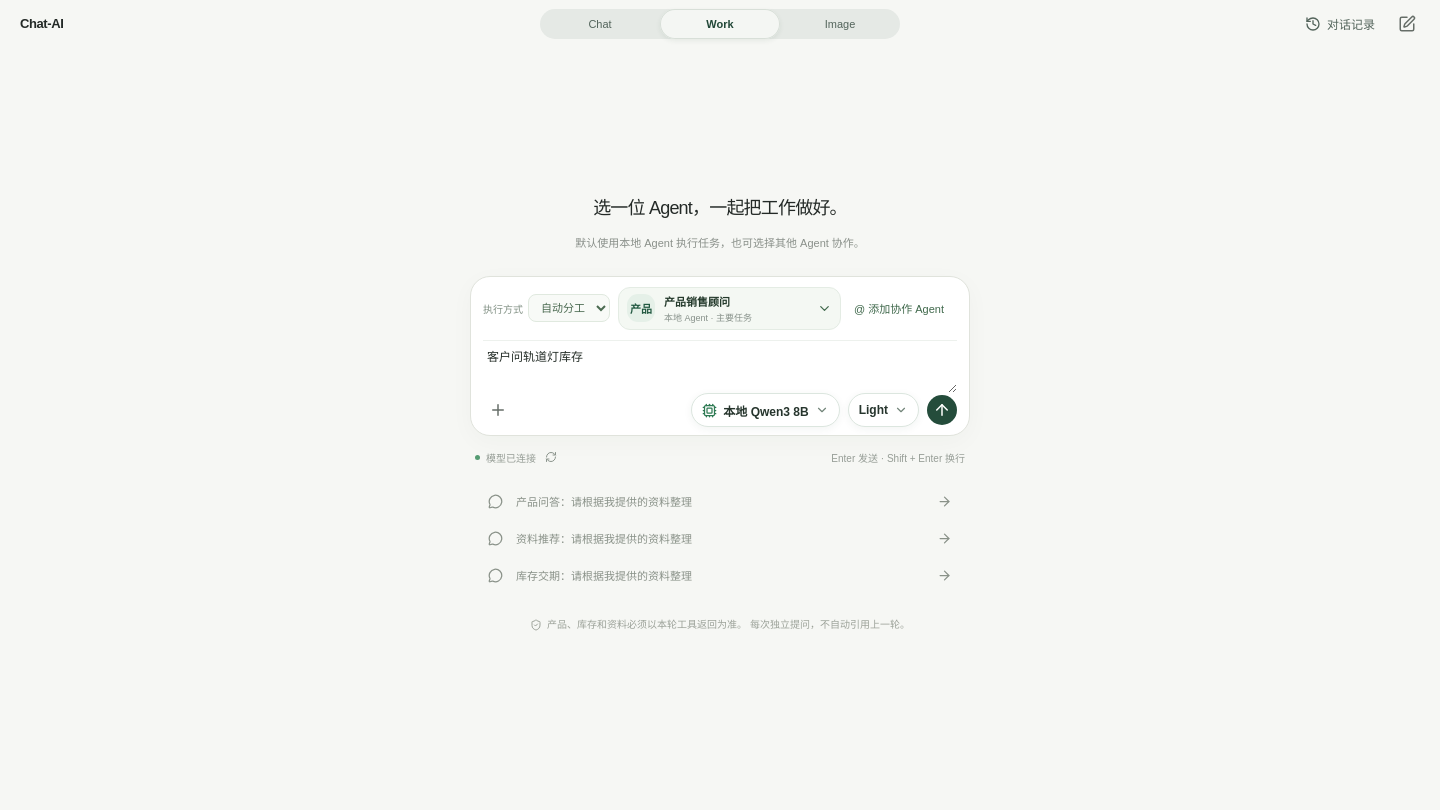
Scenario: Agent workspace › can guide an addition before the current response headers arrive
Click the button named "发送问题": (942, 410) [927,395,957,425]
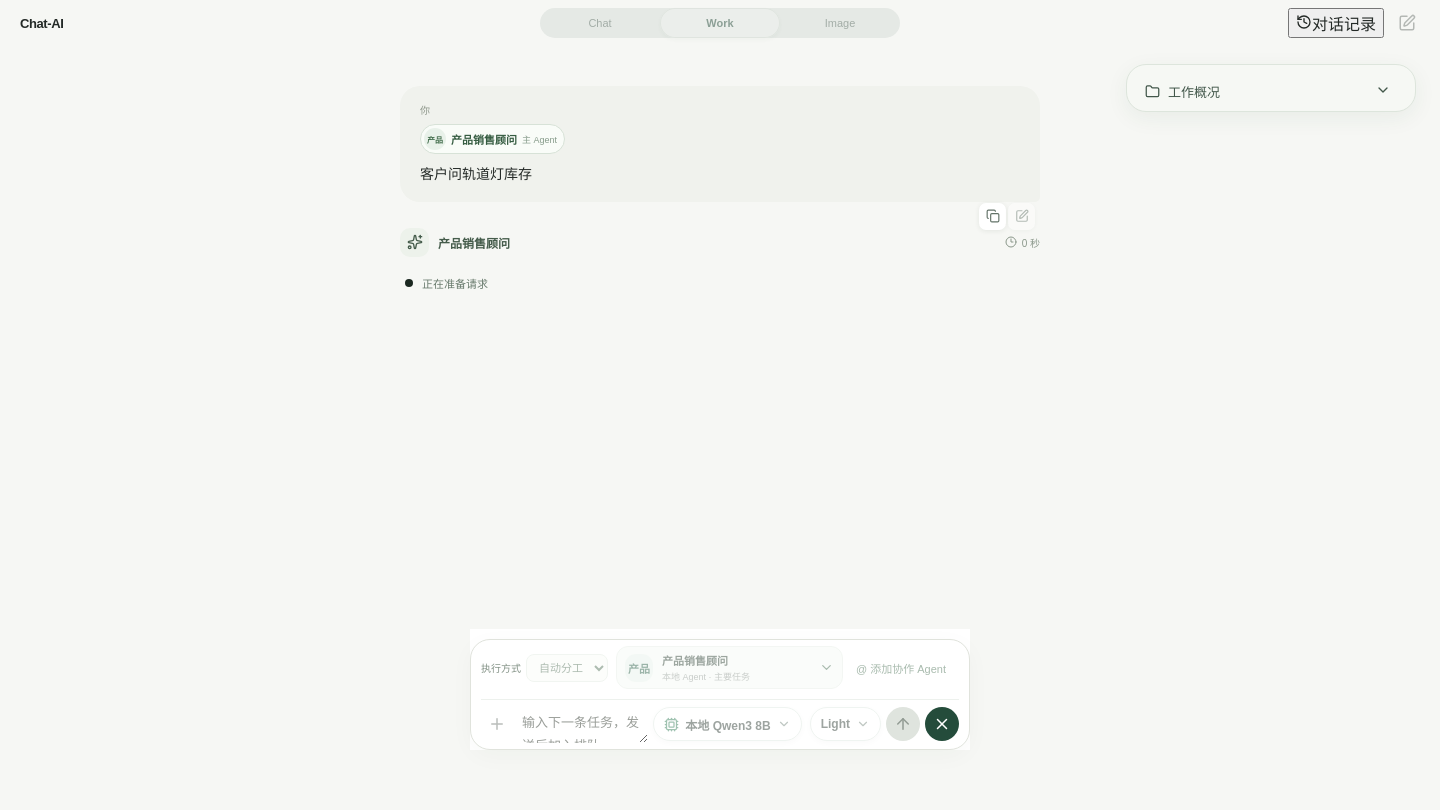
In the text box named "客户问题或销售任务": (583, 724) [518,705,648,743], type "一定给出最终结果"
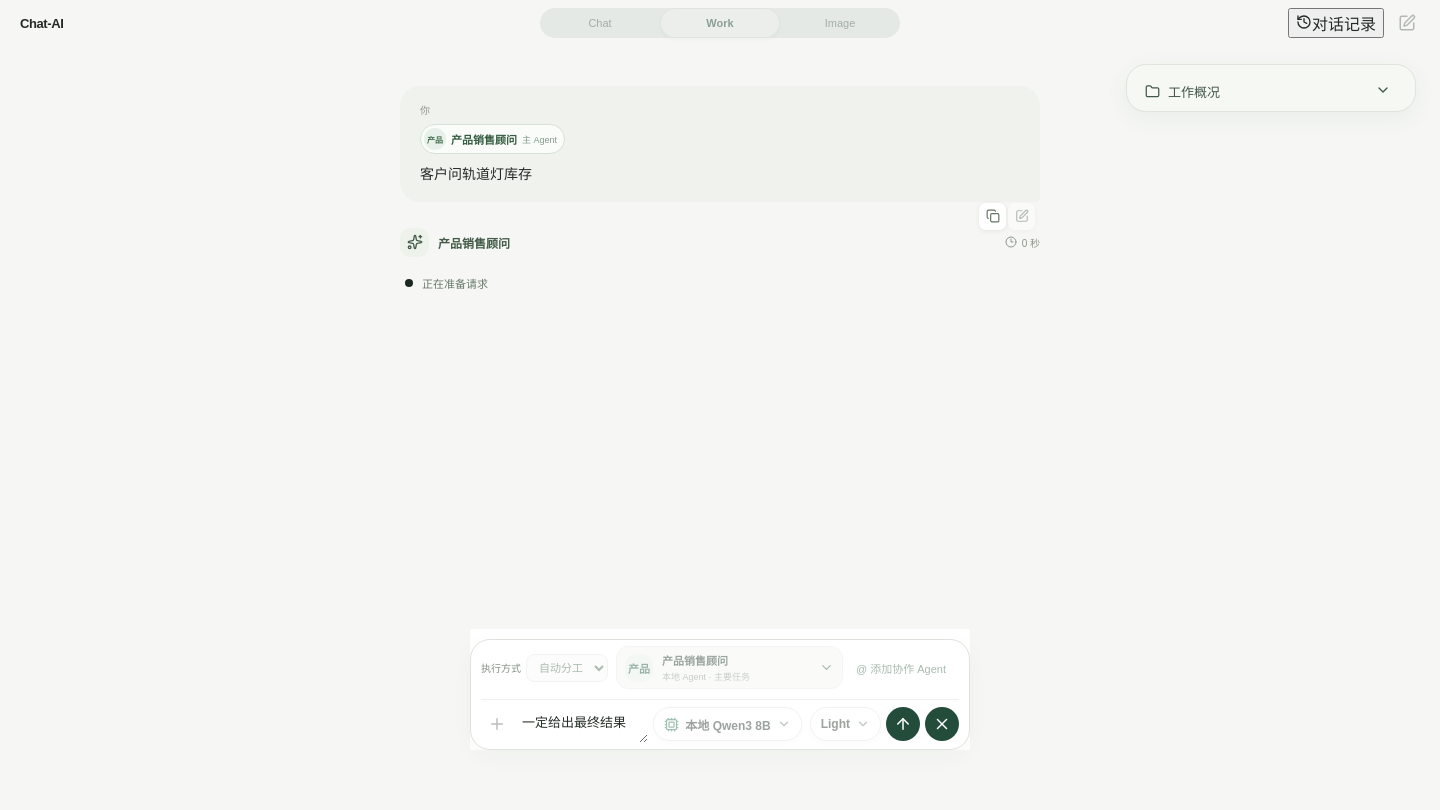
Click the button named "加入排队": (903, 724) [886,707,920,741]
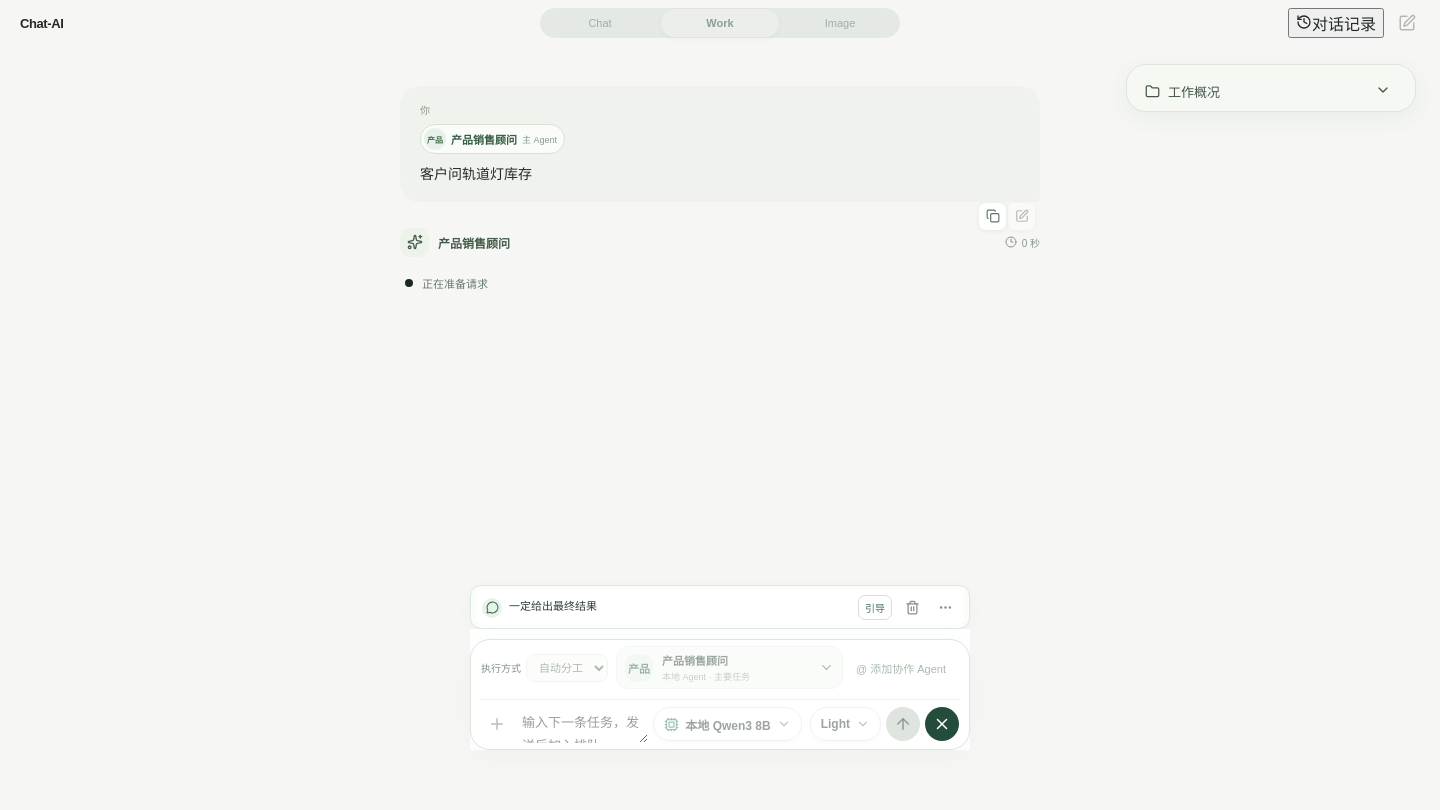
Click the button with aria-label "引导排队消息 1": (875, 607) [858,594,892,620]
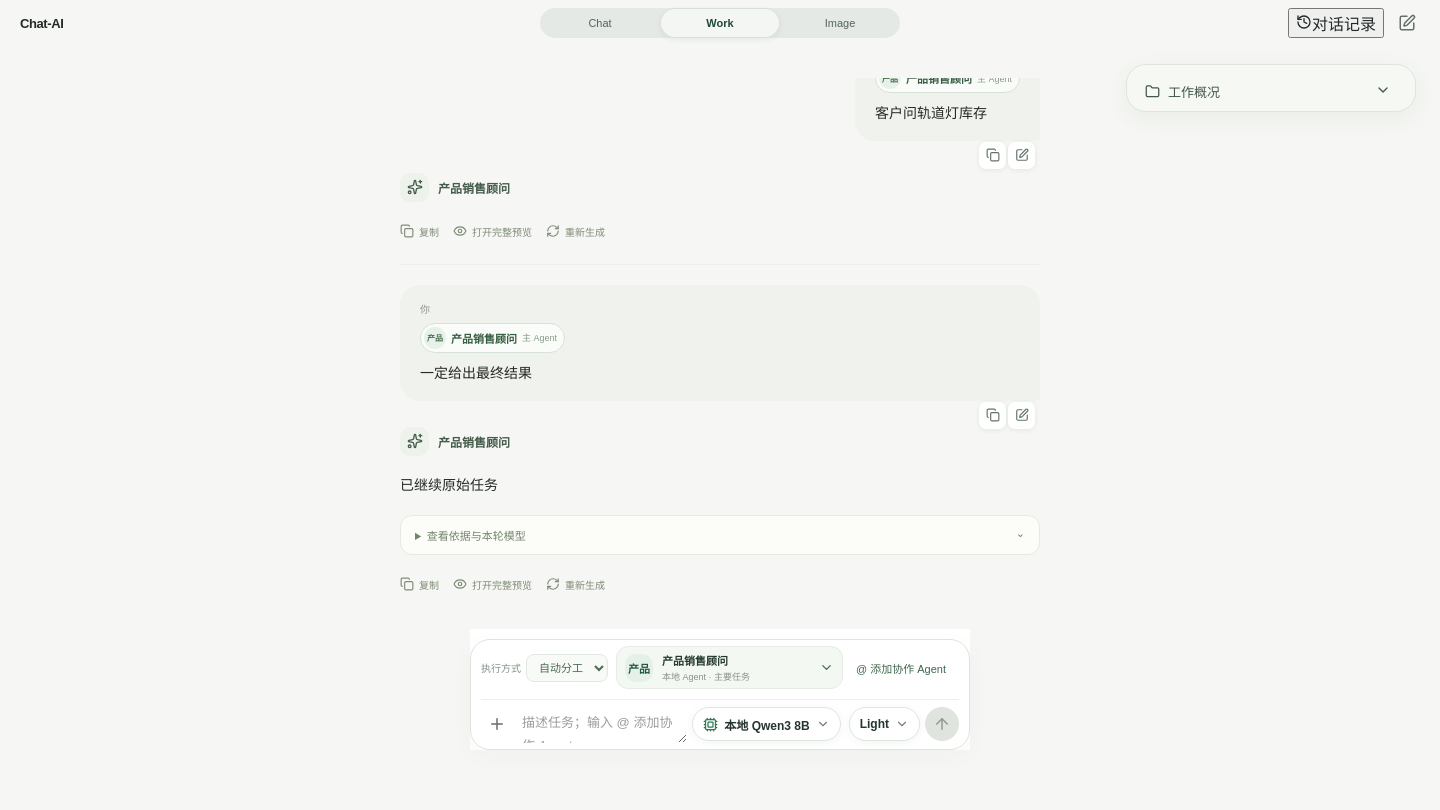
expect the text "已继续原始任务" is shown: met, box [400,477,498,493]
